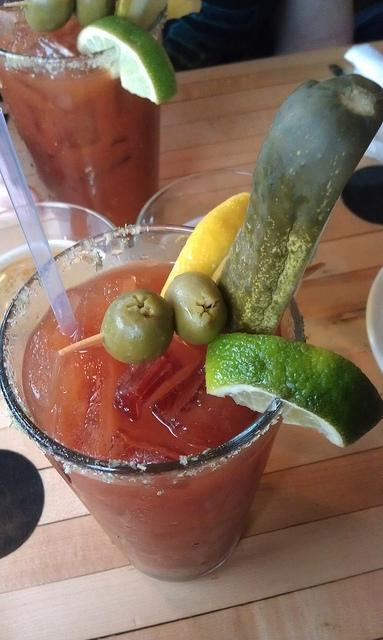lemon: (160, 192, 250, 298)
lime: (205, 332, 383, 448), (77, 15, 180, 104)
